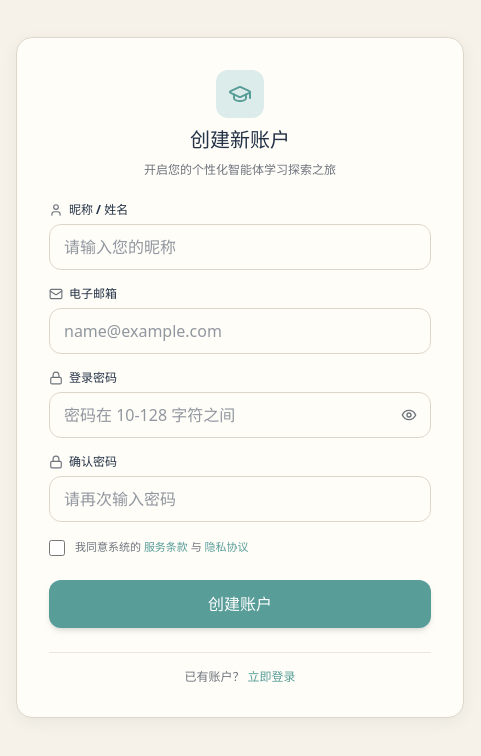
Test: Auth Pages › RegisterPage › shows validation errors when password too short or mismatch
In the field with placeholder "请输入您的昵称": coordinates (240, 246) [49,224,431,270], type "Test User"
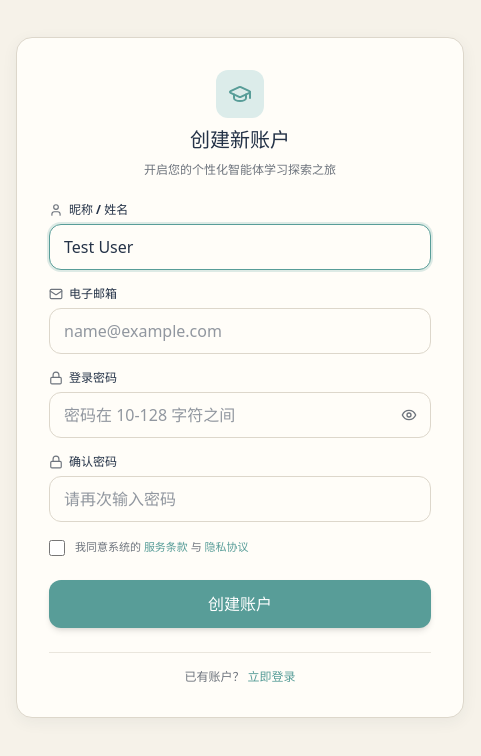
In the field with placeholder "name@example.com": coordinates (240, 330) [49,308,431,354], type "test@example.com"
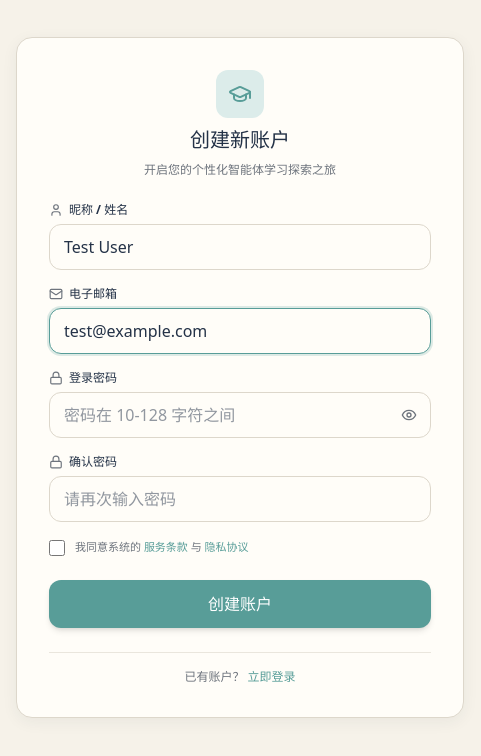
In the password field with placeholder "密码在 10-128 字符之间": coordinates (240, 414) [49,392,431,438], type "short"
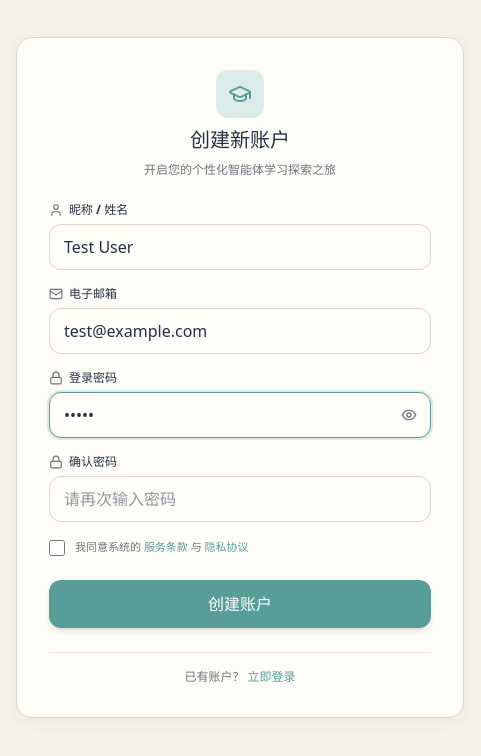
In the password field with placeholder "请再次输入密码": coordinates (240, 498) [49,476,431,522], type "mismatch"
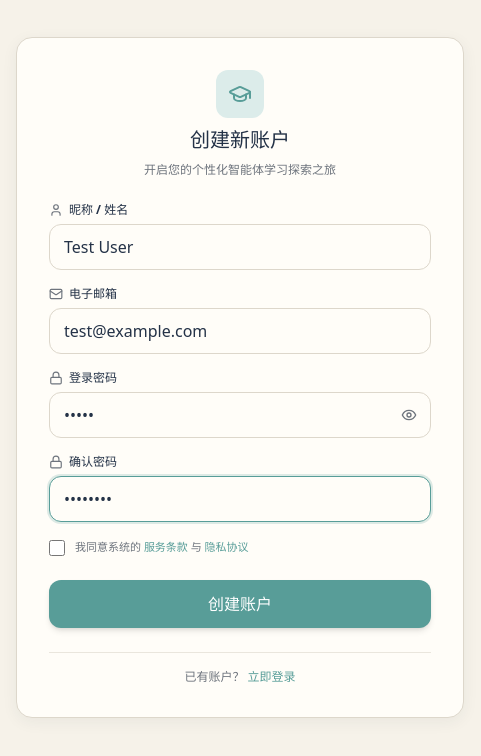
Click the checkbox: coordinates (57, 548) [49,540,65,556]
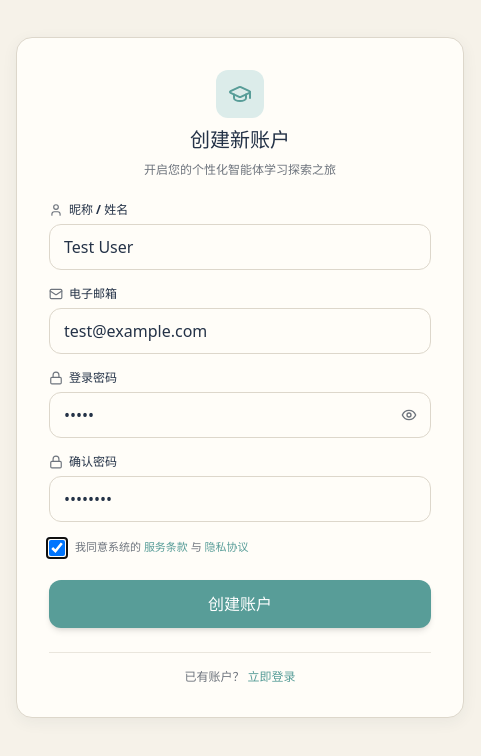
Click the button "创建账户": coordinates (240, 604) [49,580,431,628]
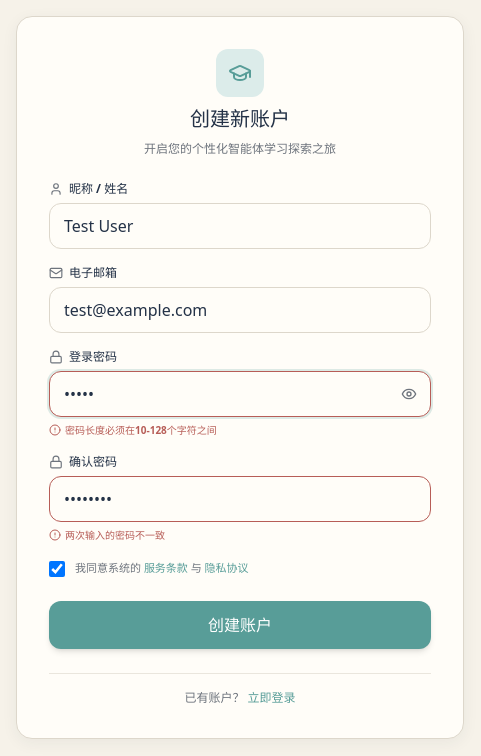
Expected: the text "密码长度必须在10-128个字符之间" is shown, [49,422,217,436]
